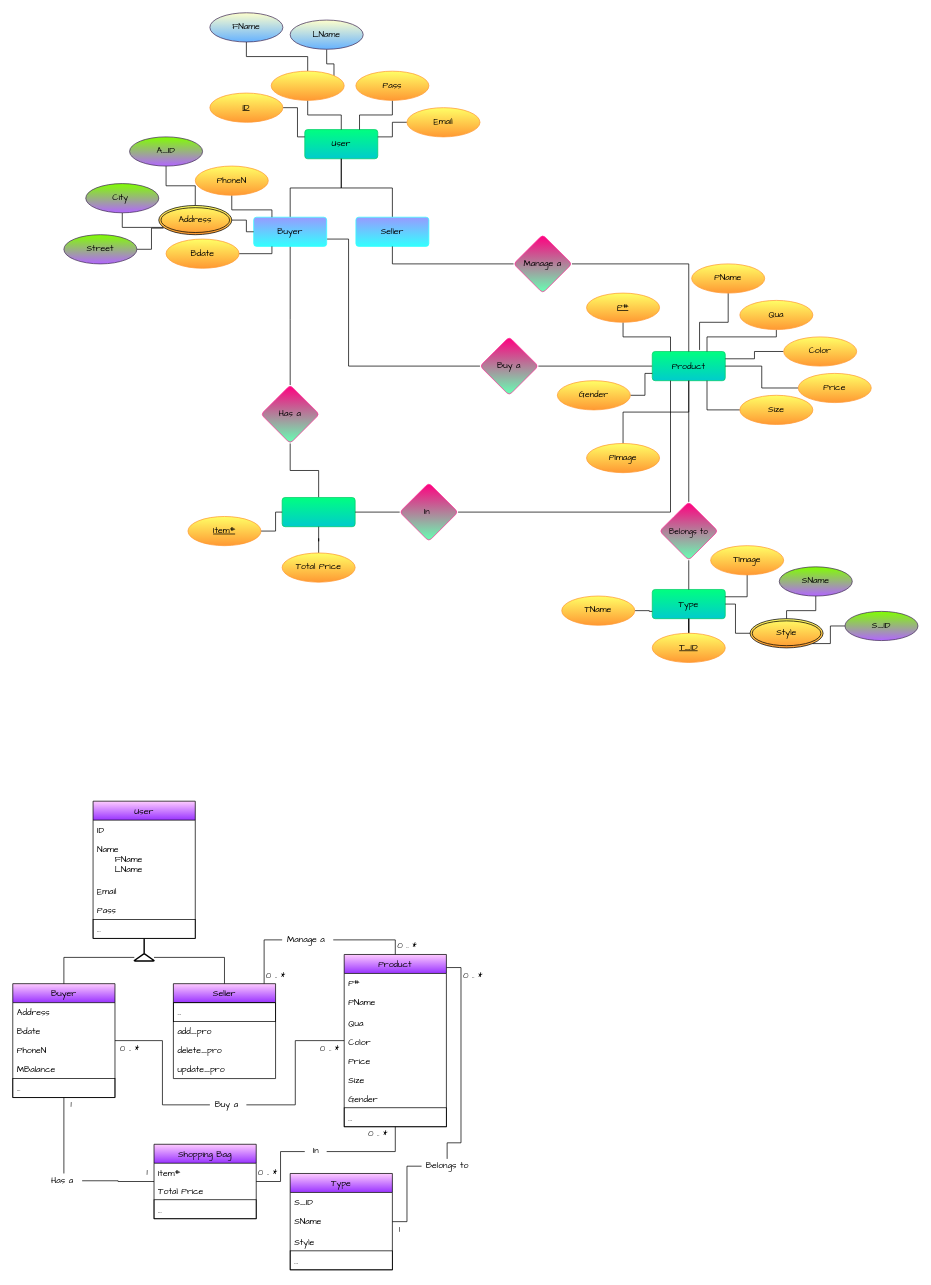
Some shapes in this 931 by 1285 pixel diagram are drawn without their labels. Each missing label, with the centre of its shape:
"Name" goes at point 307,85.
"Shoping Bag" goes at point 318,512.
